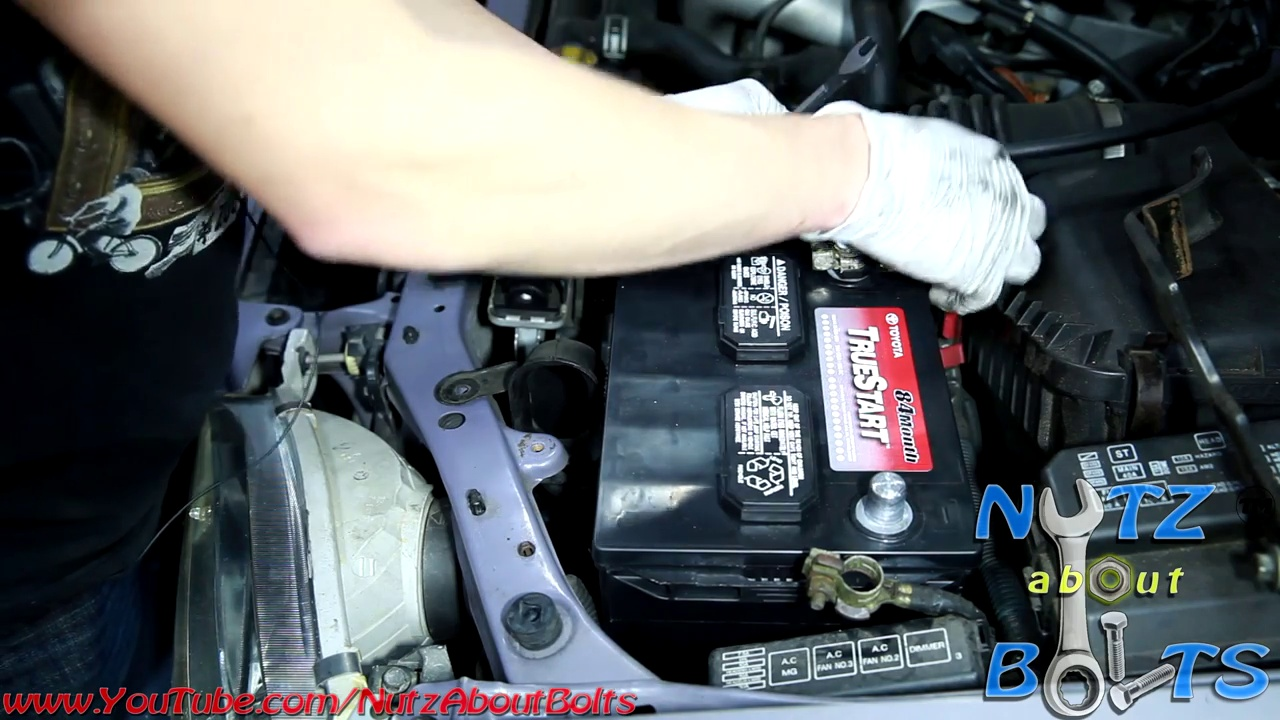battery: (602, 268, 991, 607)
neg_disconnected: (782, 447, 940, 635)
pos_touched: (807, 194, 1002, 349)
